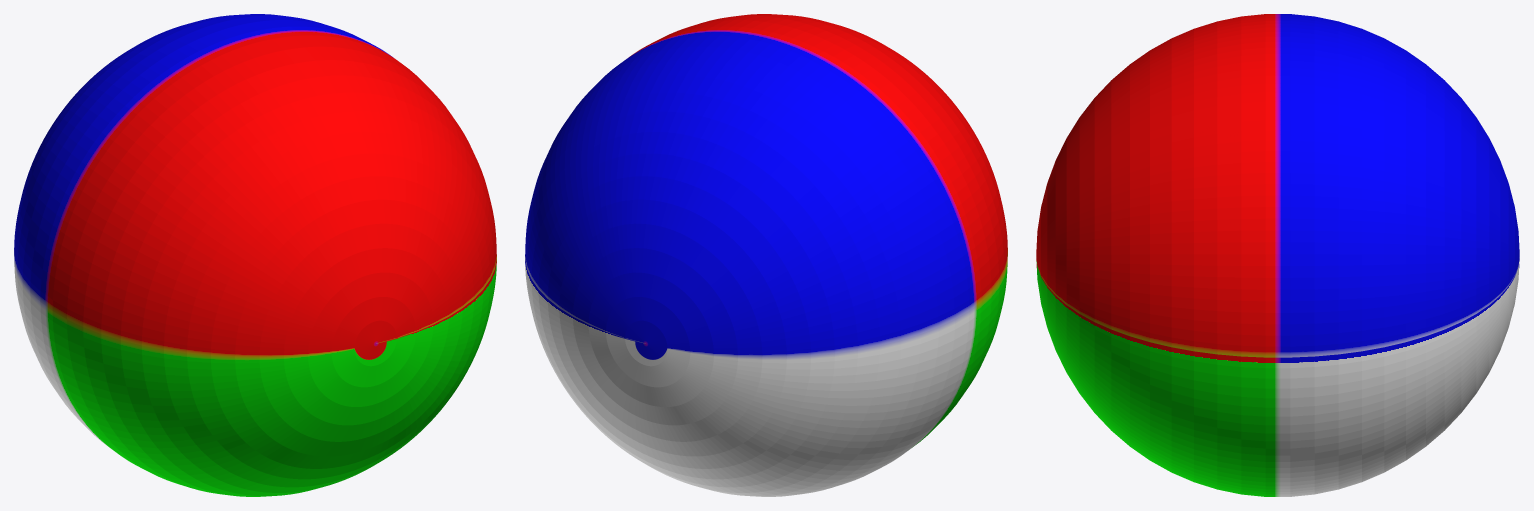
Rendered from quadrant_sphere.glb.
3 views of the same model, side by side, from view 1: azimuth 30°, elevation 25°; view 2: azimuth 150°, elevation 25°; view 3: azimuth 270°, elevation 25° (orthographic).
Visible parts, largest first — view 1: model; view 2: model; view 3: model.
Boxes of the visible parts, x1,y1,x2,y2 form: model: [14, 14, 496, 496]; model: [525, 14, 1007, 496]; model: [1036, 14, 1519, 496].
Size of the model in its own units: 2 by 2 by 2.
Materials: 1 (1 with a texture image).
